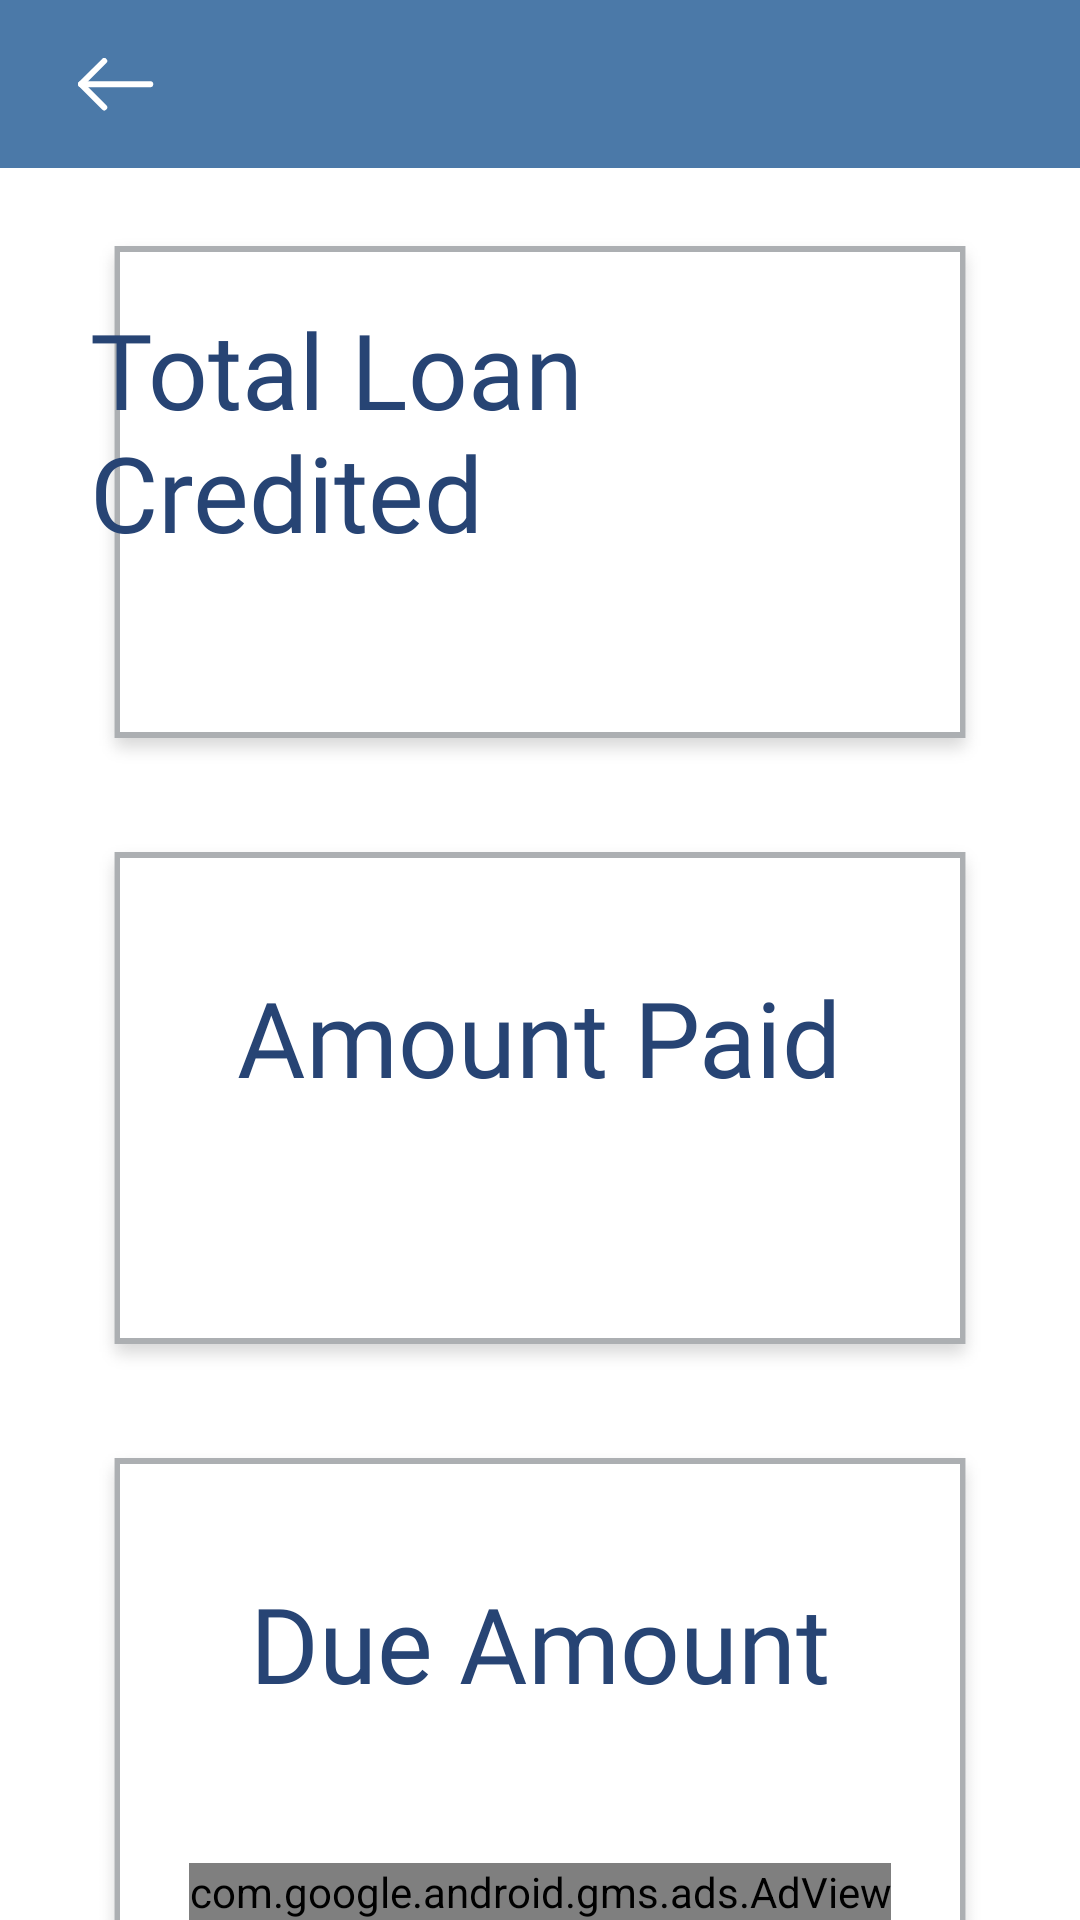

Where to tap for icons on this 1080 × 1920 app screen, as point (x, y):
back: point (116, 84)
